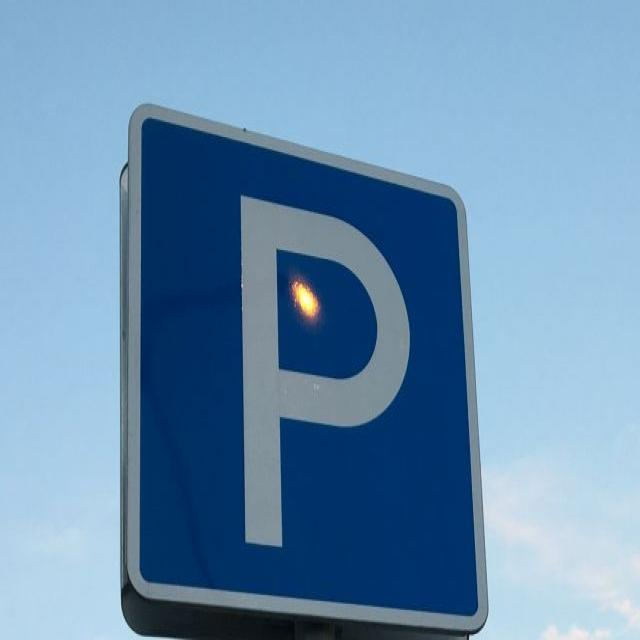parking: (94, 98, 503, 640)
